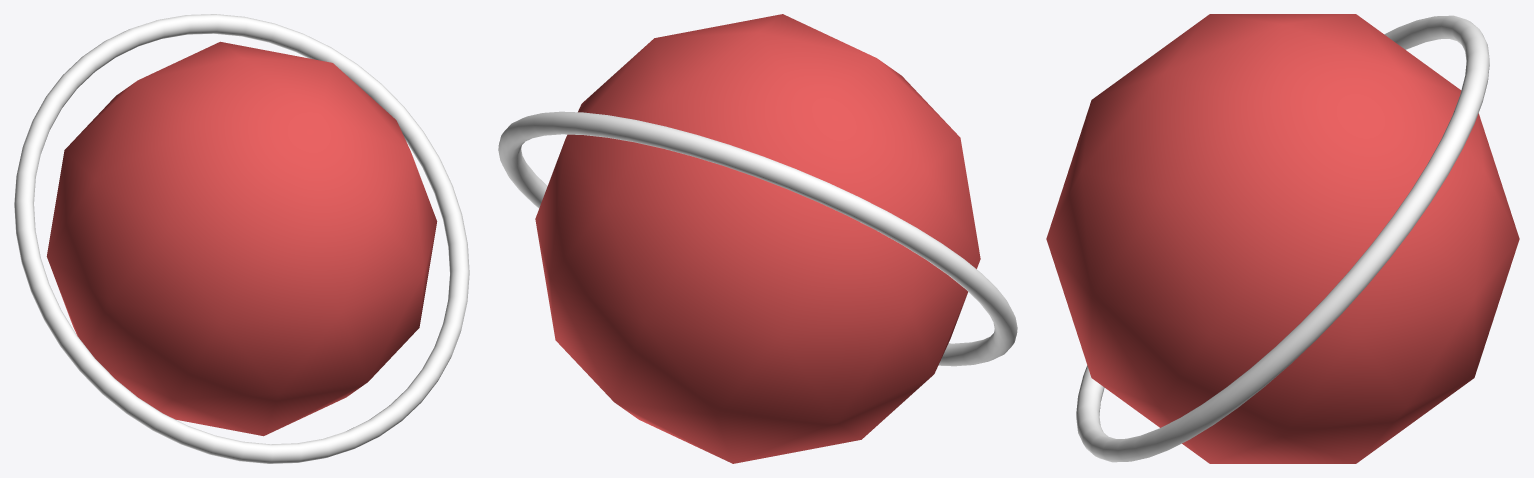
File: mesh_powerup_magnet.fbx
3 renders of one model, left to right at view 1: azimuth 30°, elevation 25°; view 2: azimuth 150°, elevation 25°; view 3: azimuth 270°, elevation 25°, orthographic. The views are drawn at different scales.
Parts seen in each view (by area): view 1: mesh_powerup_magnet; view 2: mesh_powerup_magnet; view 3: mesh_powerup_magnet.
Part boxes in pixels (box(x1,y1,x2,y2)): mesh_powerup_magnet: box(14, 14, 469, 463); mesh_powerup_magnet: box(498, 14, 1017, 463); mesh_powerup_magnet: box(1046, 14, 1519, 463).
Bounding box in the file's own units: 0.73 × 0.6 × 0.6.
